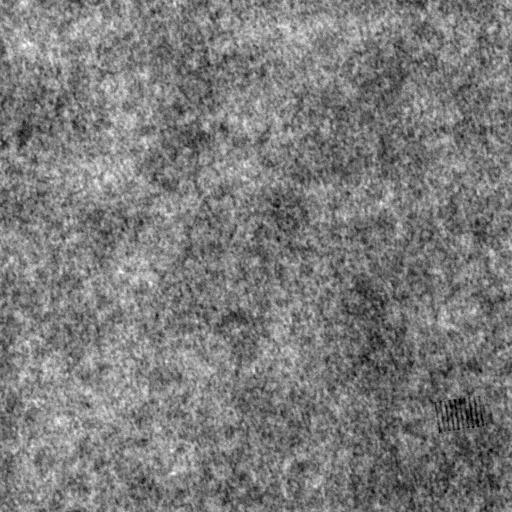DefectTypeB: (434, 395, 487, 432)
